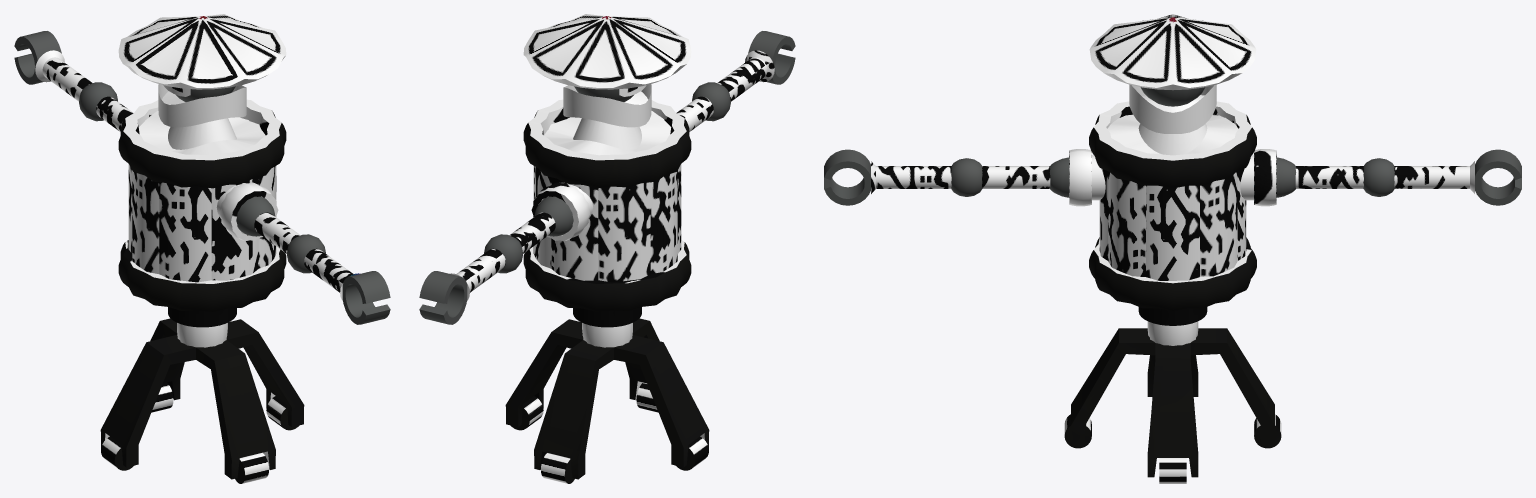
Rendered from robotLumberjack.fbx.
The picture shows the model from 3 angles, left to right: view 1: azimuth 30°, elevation 25°; view 2: azimuth 150°, elevation 25°; view 3: azimuth 270°, elevation 25°; orthographic projection.
Parts seen in each view (by area): view 1: player; view 2: player; view 3: player.
Boxes of the visible parts, x1,y1,x2,y2 form: player: (14,14,390,483); player: (419,14,795,483); player: (824,14,1521,483).
Size of the model in its own units: 152 by 328 by 488.
